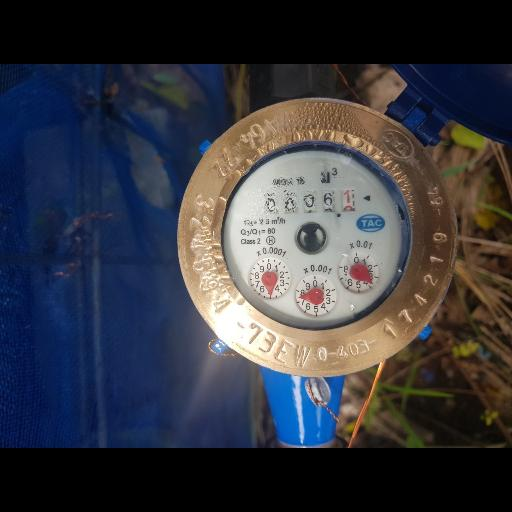0: (282, 190, 299, 214), (303, 190, 317, 214), (265, 190, 278, 214)
1: (342, 189, 356, 212)
6: (322, 189, 335, 213)
border_water_meter_number: (262, 186, 359, 218)
